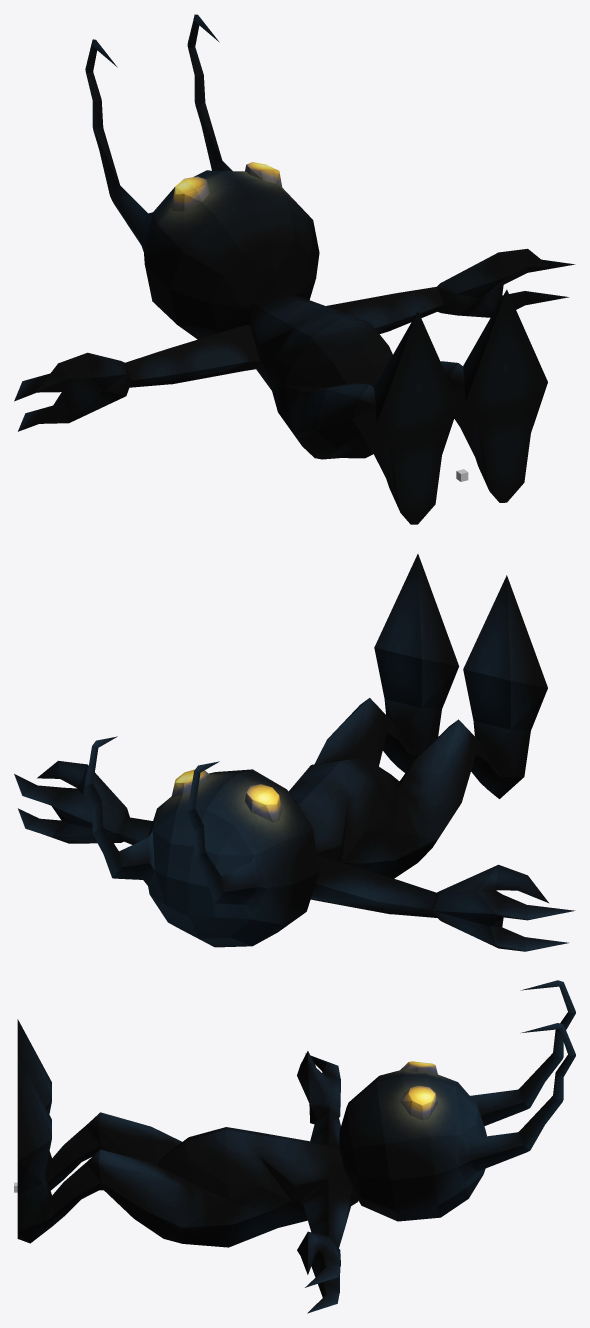
Rendered from Heartless.obj.
The picture shows the model from 3 angles, top to bottom: view 1: azimuth 30°, elevation 25°; view 2: azimuth 150°, elevation 25°; view 3: azimuth 270°, elevation 25°; orthographic projection. The views are drawn at different scales.
Parts seen in each view (by area): view 1: mesh0000; view 2: mesh0000; view 3: mesh0000.
Boxes of the visible parts, box(x1,y1,x2,y2) form: mesh0000: box(14, 14, 575, 524); mesh0000: box(14, 554, 575, 951); mesh0000: box(17, 980, 575, 1313).
Size of the model in its own units: 148 by 70.65 by 150.
